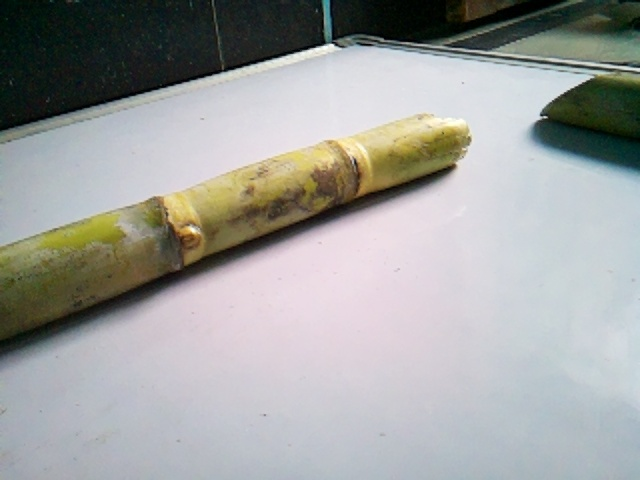Good Sugarcane: (1, 111, 473, 348)
Node: (121, 188, 219, 271), (311, 131, 373, 206)
